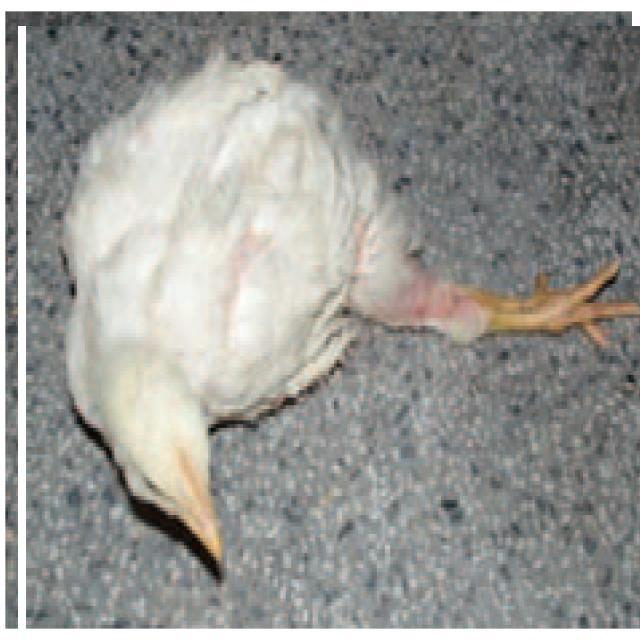AbNormal: (60, 59, 633, 572)
